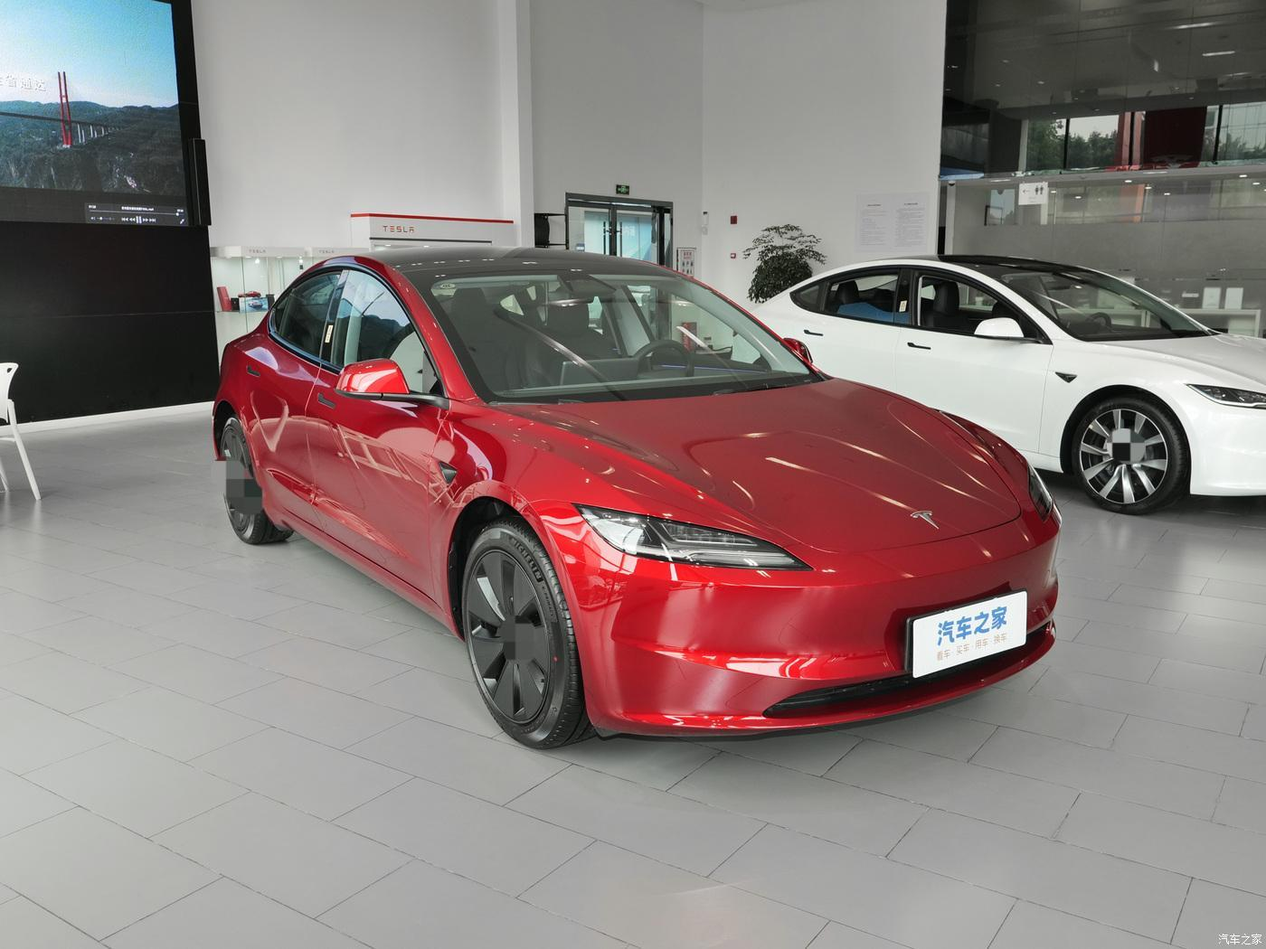Tesla: (909, 510, 939, 533)
